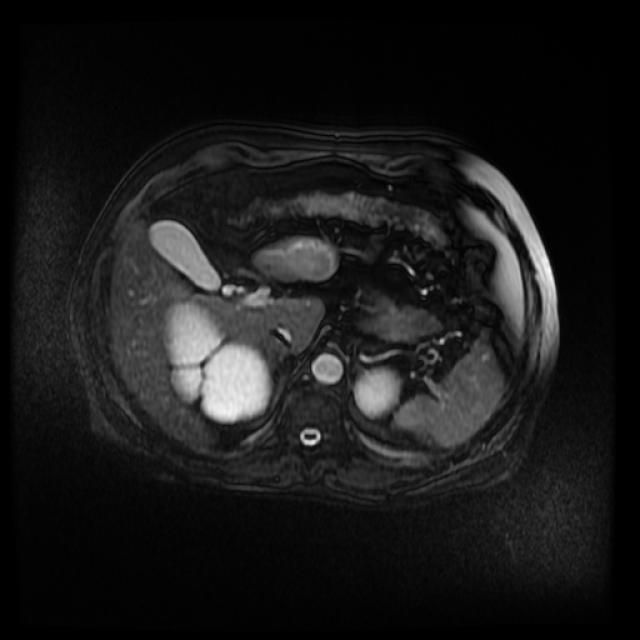sag: (159, 299, 274, 424)
sol: (352, 365, 402, 420)
